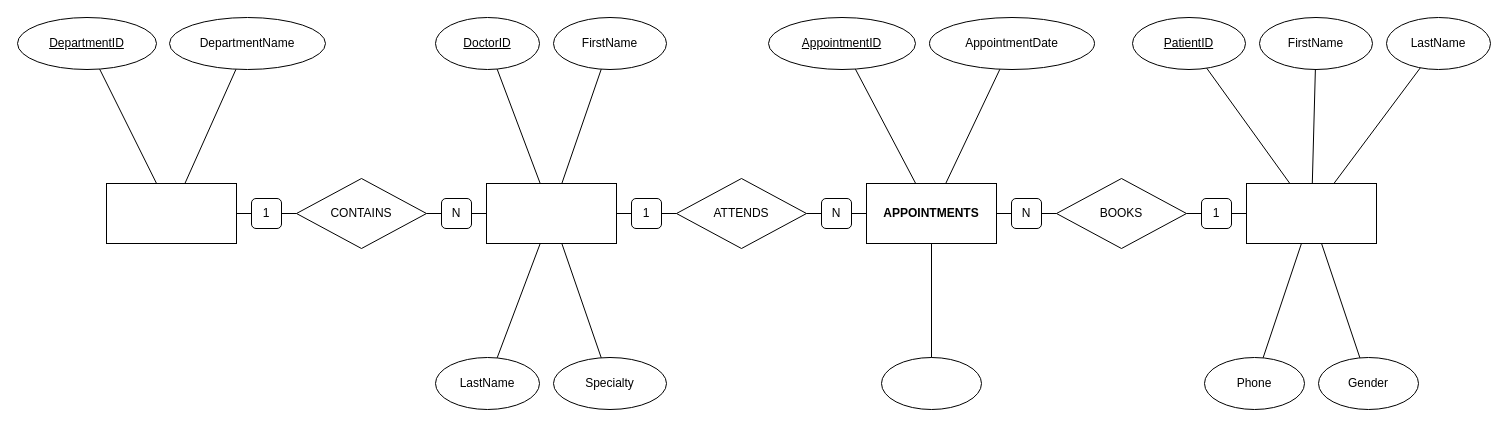
Some shapes in this 1508 by 427 pixel diagram are drawn without their labels. The shapes that lost their labels are listed below. From the top down, each one's centre as x and y in pixels, then its label:
At point (171, 213): "DEPARTMENTS".
At point (551, 213): "DOCTORS".
At point (1311, 213): "PATIENTS".
At point (931, 383): "Reason".
